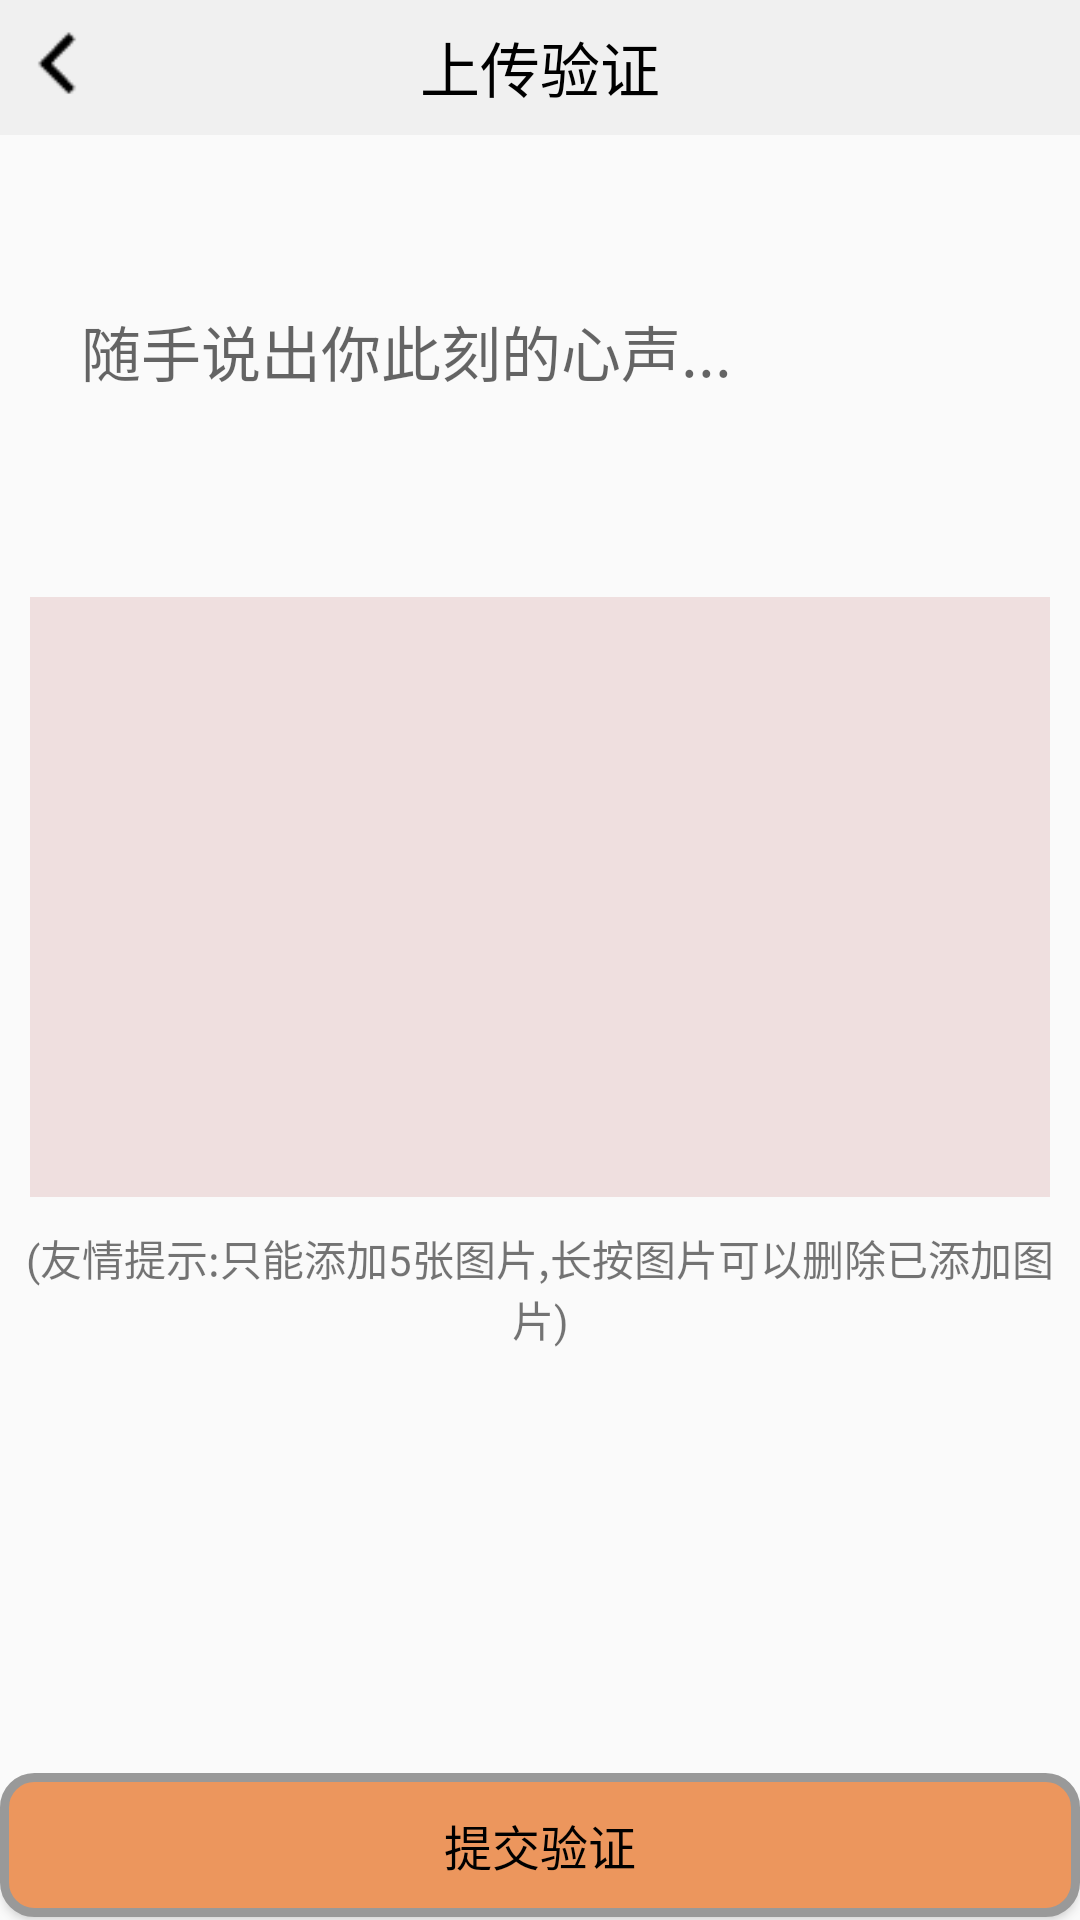

Screen size 1080w x 1920h. Icon name, then its box in pixels as {"left": x1, "top": y1, "right": x2, "bottom": y2}:
back: {"left": 38, "top": 32, "right": 76, "bottom": 94}
